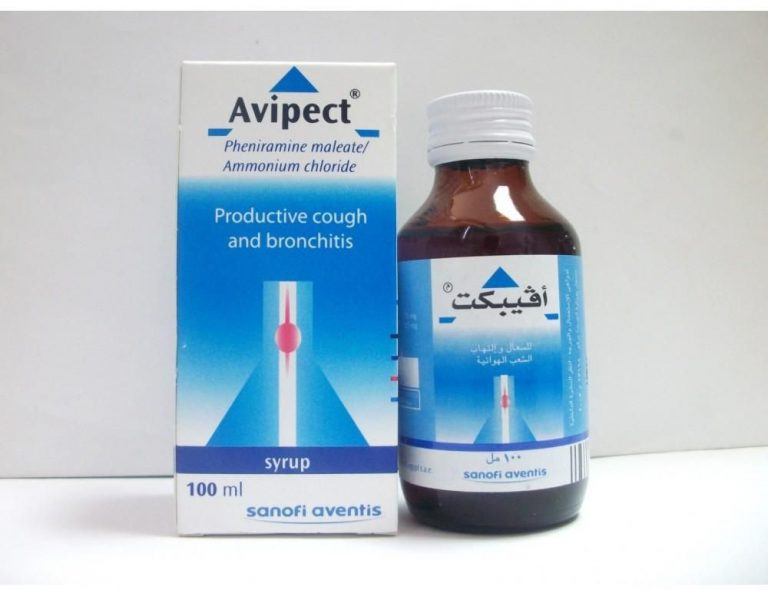Medicine: (172, 52, 407, 533), (402, 82, 603, 548)
